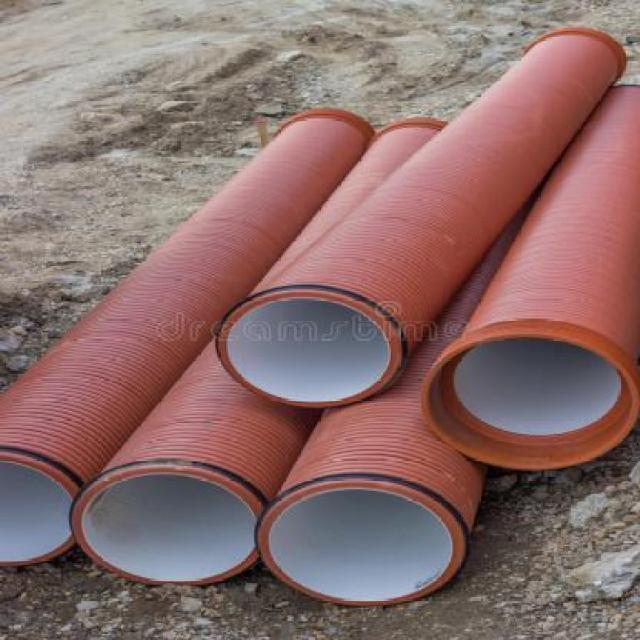pipe: (420, 333, 639, 471), (260, 480, 465, 605), (71, 466, 267, 585), (219, 291, 399, 404), (0, 451, 82, 568)
